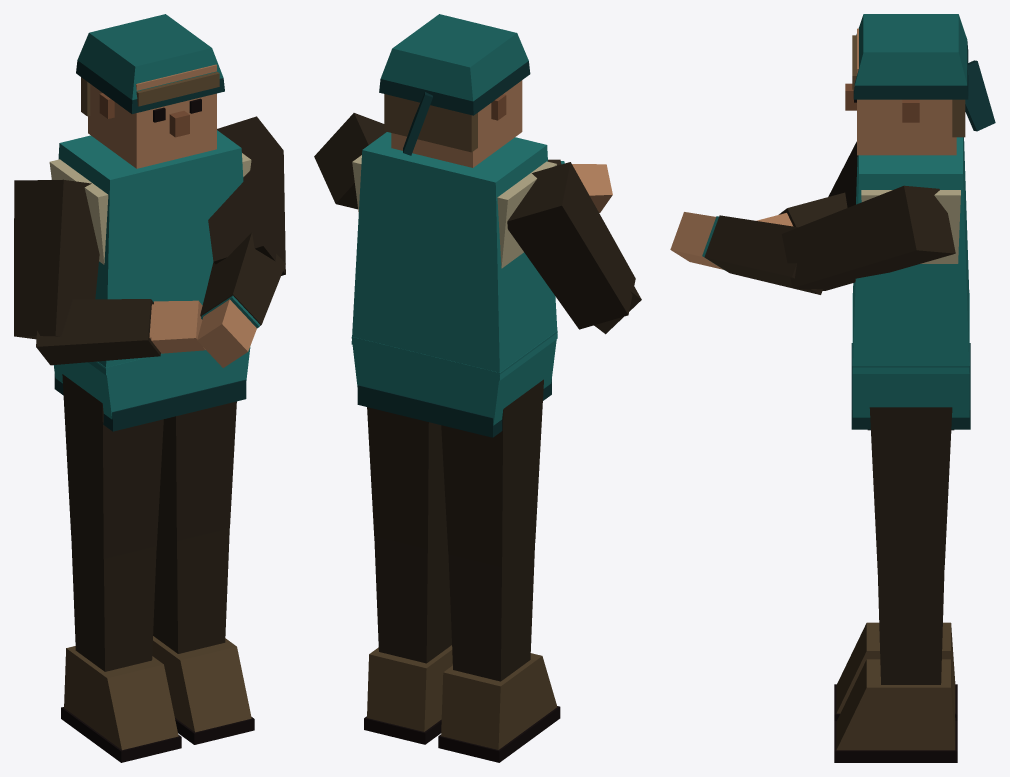
File: grunt_set_starter.glb
The picture shows the model from 3 angles, left to right: view 1: azimuth 30°, elevation 25°; view 2: azimuth 150°, elevation 25°; view 3: azimuth 270°, elevation 25°; orthographic projection. The views are drawn at different scales.
Parts seen in each view (by area): view 1: torso, leg_r_lower, head, leg_l_lower, leg_r, arm_r, leg_l, arm_r_lower, arm_l, arm_l_lower, hair; view 2: torso, leg_r_lower, leg_l_lower, head, leg_r, arm_r, leg_l, arm_l, hair, arm_l_lower; view 3: torso, leg_l_lower, head, leg_l, arm_l, arm_l_lower, leg_r_lower, arm_r_lower, arm_r, hair.
Boxes of the visible parts, x1=… form: torso: x1=49, y1=130, x2=251, y2=431; leg_r_lower: x1=61, y1=535, x2=181, y2=762; head: x1=76, y1=14, x2=224, y2=168; leg_l_lower: x1=152, y1=528, x2=254, y2=744; leg_r: x1=62, y1=374, x2=163, y2=558; arm_r: x1=14, y1=179, x2=99, y2=339; leg_l: x1=158, y1=401, x2=236, y2=541; arm_r_lower: x1=36, y1=299, x2=205, y2=365; arm_l: x1=208, y1=116, x2=285, y2=275; arm_l_lower: x1=197, y1=232, x2=285, y2=367; hair: x1=81, y1=72, x2=219, y2=116; torso: x1=351, y1=132, x2=557, y2=437; leg_r_lower: x1=438, y1=543, x2=560, y2=762; leg_l_lower: x1=364, y1=535, x2=452, y2=744; head: x1=379, y1=14, x2=530, y2=167; leg_r: x1=441, y1=379, x2=543, y2=566; arm_r: x1=507, y1=162, x2=635, y2=329; leg_l: x1=367, y1=407, x2=447, y2=548; arm_l: x1=314, y1=113, x2=386, y2=209; hair: x1=384, y1=94, x2=477, y2=152; arm_l_lower: x1=548, y1=159, x2=612, y2=212; torso: x1=851, y1=137, x2=970, y2=430; leg_l_lower: x1=834, y1=569, x2=957, y2=762; head: x1=845, y1=14, x2=995, y2=155; leg_l: x1=869, y1=407, x2=952, y2=568; arm_l: x1=781, y1=185, x2=955, y2=290; arm_l_lower: x1=670, y1=212, x2=822, y2=294; leg_r_lower: x1=834, y1=622, x2=957, y2=720; arm_r_lower: x1=756, y1=192, x2=847, y2=227; arm_r: x1=828, y1=141, x2=857, y2=207; hair: x1=852, y1=35, x2=965, y2=137.
Size of the model in its own units: 0.7929 by 1.77 by 0.7515.
